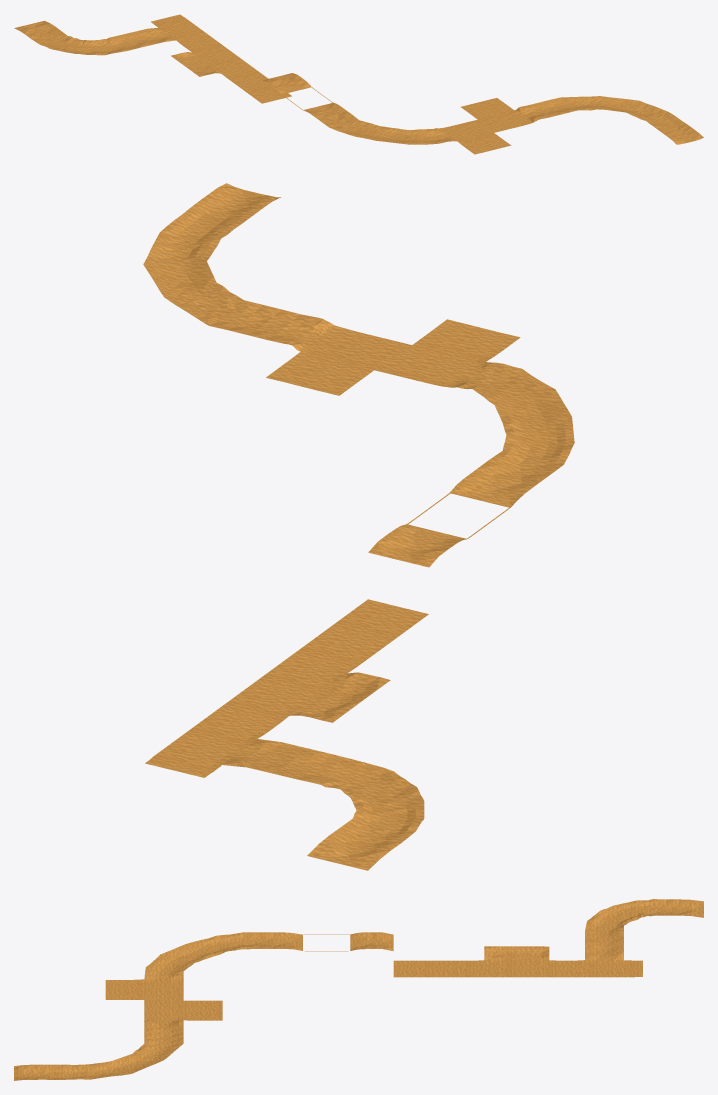
Rendered from sandFloor_crushingWalls.fbx.
3 renders of one model, top to bottom at view 1: azimuth 30°, elevation 25°; view 2: azimuth 150°, elevation 25°; view 3: azimuth 270°, elevation 25°, orthographic. The views are drawn at different scales.
Visible parts, largest first — view 1: sandFloor2; view 2: sandFloor2; view 3: sandFloor2.
Part boxes in pixels (<box>): sandFloor2: <box>14,14,703,154</box>; sandFloor2: <box>143,183,574,870</box>; sandFloor2: <box>14,899,703,1080</box>.
Size of the model in its own units: 8233 by 537 by 11609.
